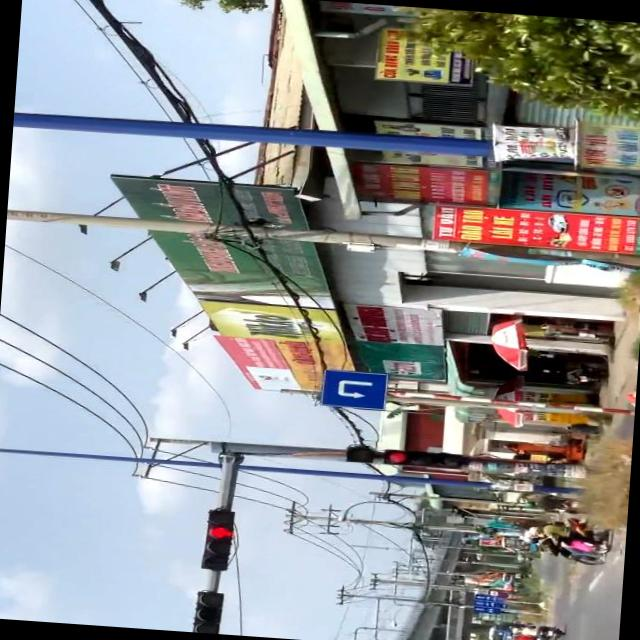I-409: (322, 366, 386, 408)
